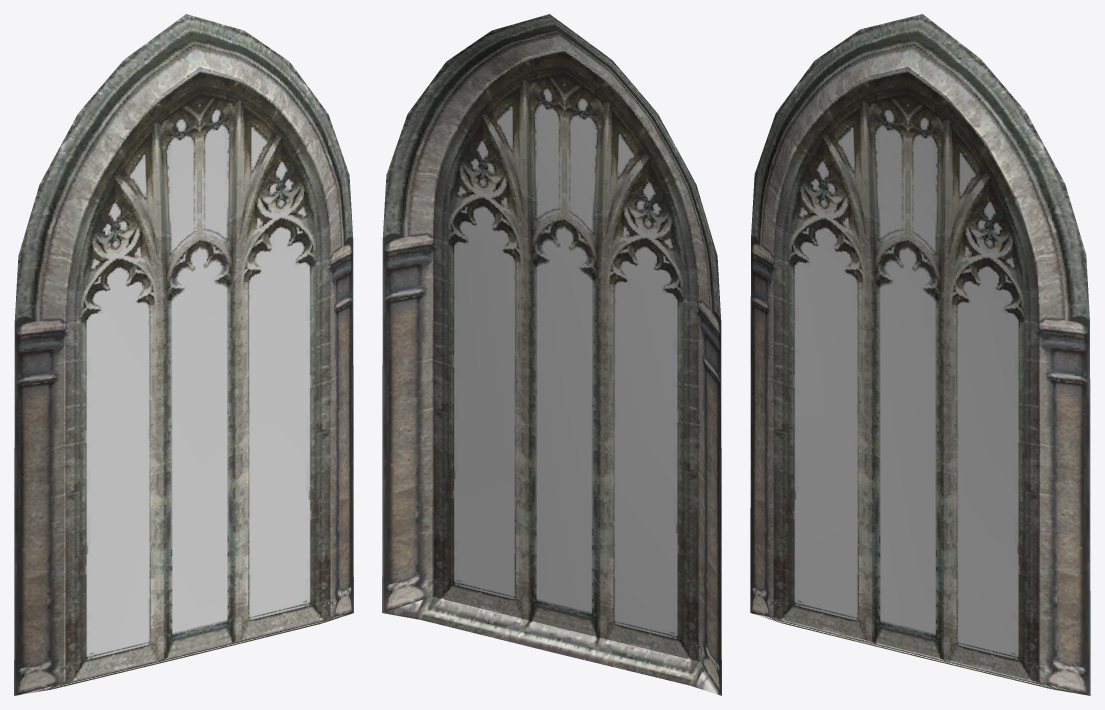
File: GreenLand_Dungeon_window02.FBX
3 renders of one model, left to right at view 1: azimuth 30°, elevation 25°; view 2: azimuth 150°, elevation 25°; view 3: azimuth 330°, elevation 25°, orthographic.
Parts seen in each view (by area): view 1: GreenLand_Dungeon_window02; view 2: GreenLand_Dungeon_window02; view 3: GreenLand_Dungeon_window02.
Boxes of the visible parts, <box> form: GreenLand_Dungeon_window02: <box>14,14,353,695</box>; GreenLand_Dungeon_window02: <box>382,14,721,695</box>; GreenLand_Dungeon_window02: <box>750,14,1090,695</box>.
Size of the model in its own units: 173 by 311 by 12.46.
